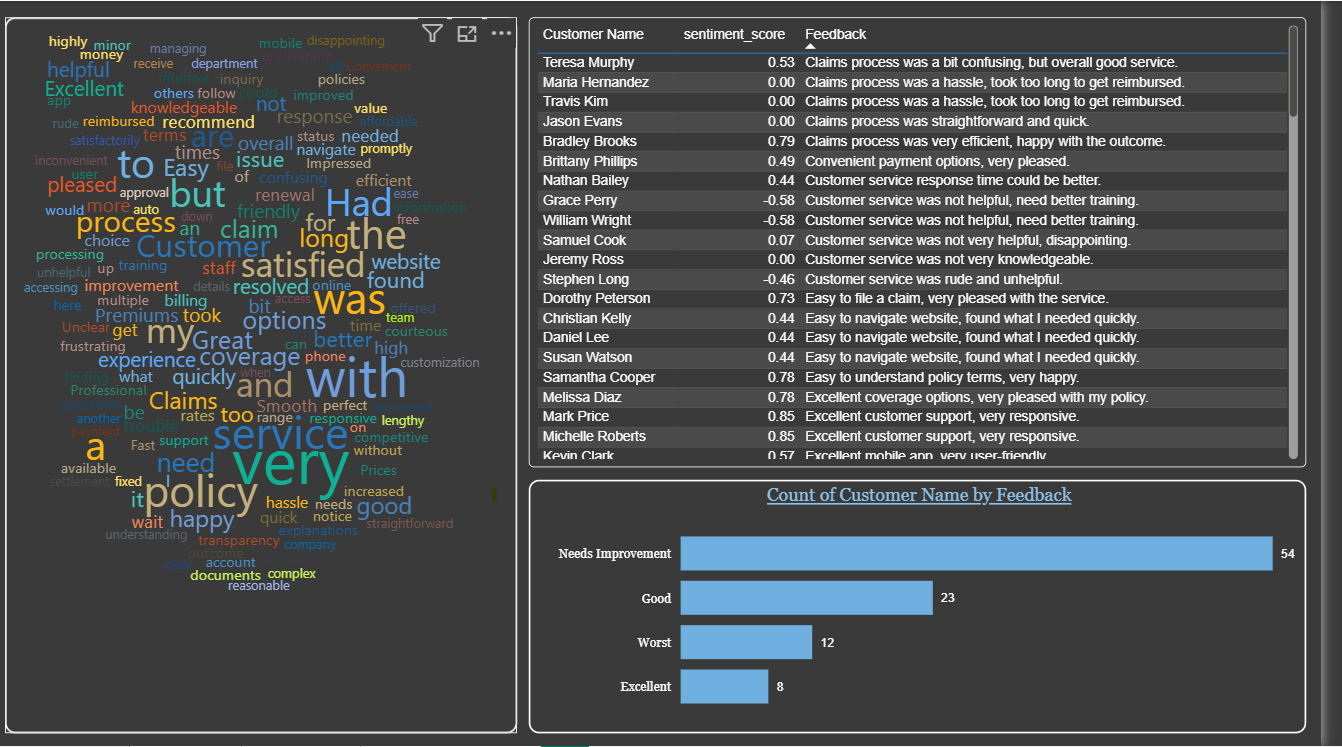

This screenshot's page, from the dashboard's own definition file:
{"tool":"powerbi","page":{"name":"Sentiment Analysis","canvas":[1280,720],"ordinal":1},"visuals":[{"type":"WordCloud1447959067750","fields":{"Category":["Customer_Feedback.Feedback"],"Values":["CountNonNull(Customer_Feedback.Feedback)"]},"box":[9.7,15.7,494.6,691.3],"z":0},{"type":"barChart","title":"Count of Customer Name by Feedback","fields":{"Category":["Customer_Feedback.Good/Improvement"],"Y":["CountNonNull(Customer_Feedback.Customer Name)"]},"box":[515.2,462.1,750.4,244.9],"z":1000},{"type":"tableEx","fields":{"Values":["Customer_Feedback.Customer Name","Customer_Feedback.sentiment_score","Customer_Feedback.Feedback"]},"box":[515.2,15.7,750.4,434.3],"z":2000}]}

Visuals, with their boxes in screenshot pixels (x1, y1, x2, y2), scaled from the page's 1280x720 canvas onto the 1342x747 screenshot:
WordCloud1447959067750 - Customer_Feedback.Feedback x CountNonNull(Customer_Feedback.Feedback): [10, 16, 529, 734]
"Count of Customer Name by Feedback" barChart: [540, 479, 1327, 734]
tableEx - Customer_Feedback.Customer Name x Customer_Feedback.sentiment_score: [540, 16, 1327, 467]
